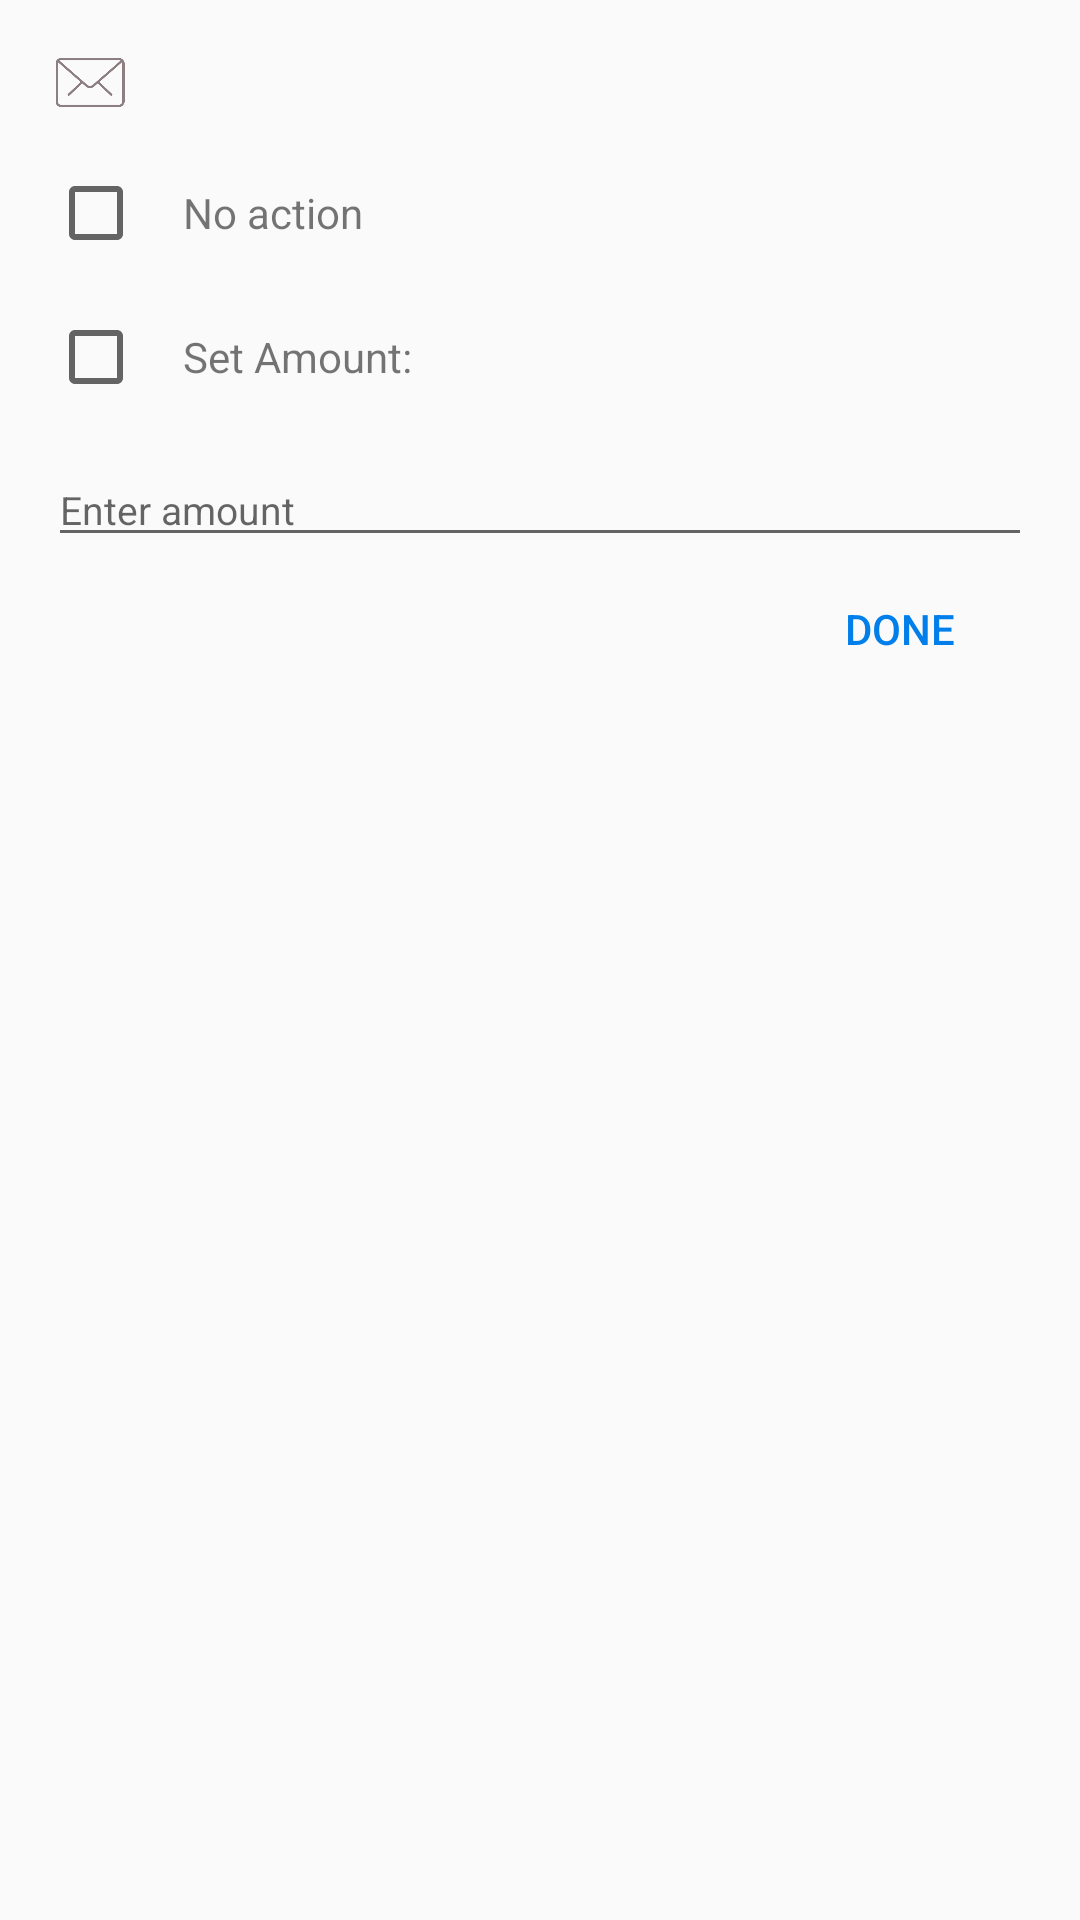

Icons on this 1080×1920 Android screen, each with the point to tap as [x,y]:
mail: [90,82]
